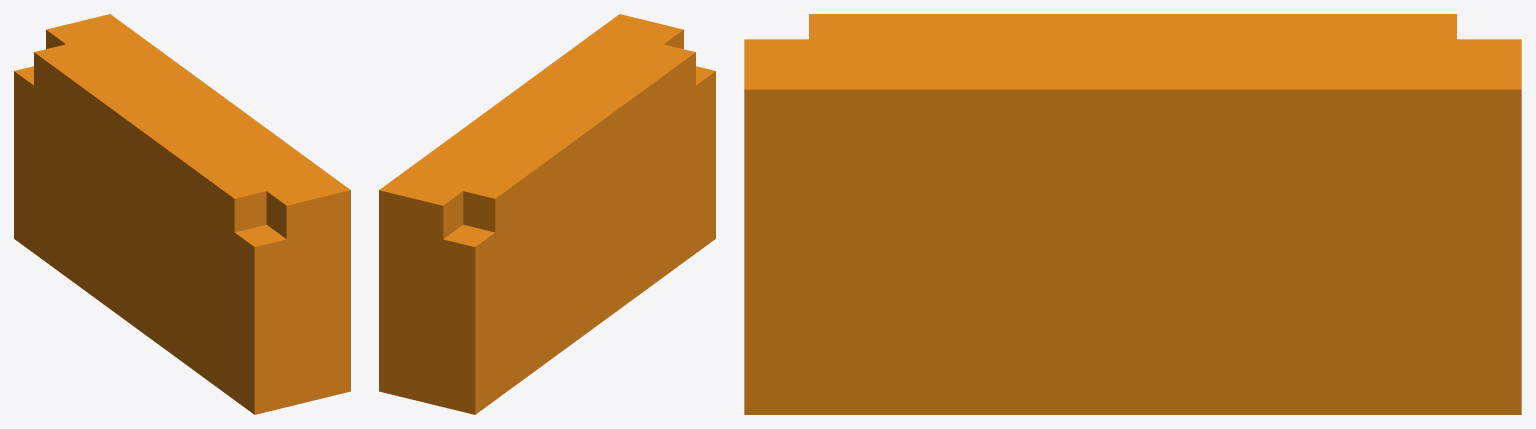
The model's file is satboy_V3_cartridge_compressed.gltf.
3 views of the same model, side by side, from view 1: azimuth 30°, elevation 25°; view 2: azimuth 150°, elevation 25°; view 3: azimuth 270°, elevation 25° (orthographic). The views are drawn at different scales.
Visible parts, largest first — view 1: cartridge 002; view 2: cartridge 002; view 3: cartridge 002.
Boxes of the visible parts, bbox=[...] form: cartridge 002: bbox=[14, 14, 350, 414]; cartridge 002: bbox=[379, 14, 715, 414]; cartridge 002: bbox=[744, 14, 1521, 414].
Bounding box in the file's own units: 3 × 6 × 13.
